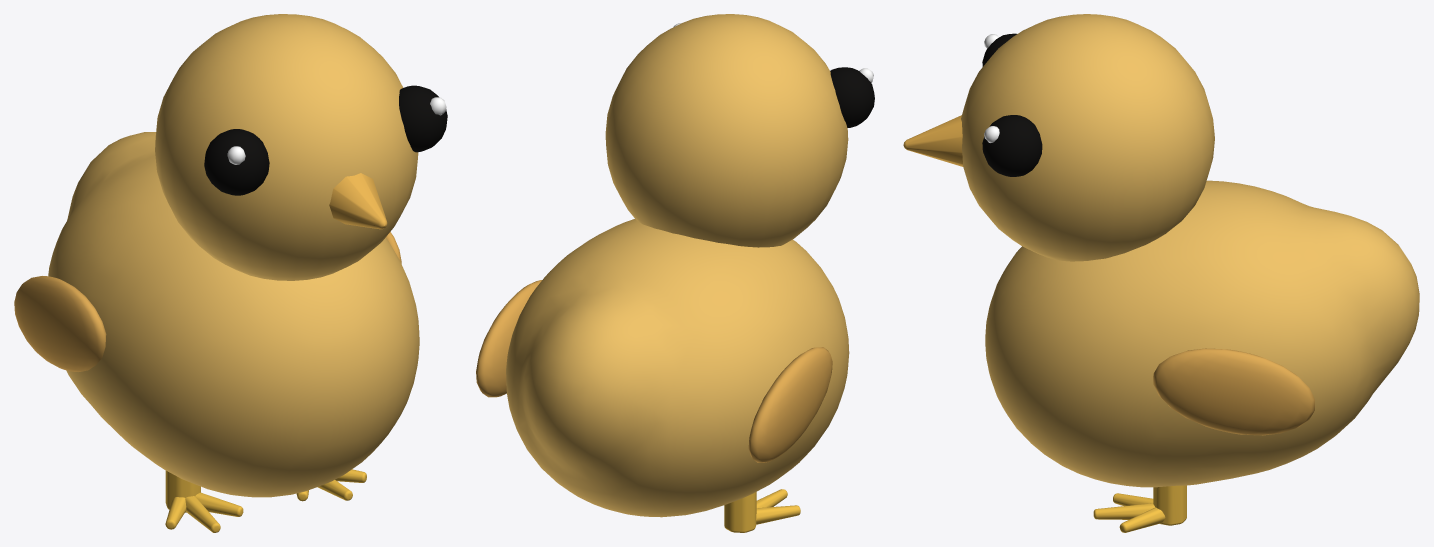
The model's file is chick_stand.fbx.
3 renders of one model, left to right at view 1: azimuth 30°, elevation 25°; view 2: azimuth 150°, elevation 25°; view 3: azimuth 270°, elevation 25°, orthographic. The views are drawn at different scales.
Parts seen in each view (by area): view 1: chick_stand; view 2: chick_stand; view 3: chick_stand.
Boxes of the visible parts, bbox=[...] form: chick_stand: bbox=[14, 14, 447, 532]; chick_stand: bbox=[476, 14, 874, 532]; chick_stand: bbox=[903, 14, 1419, 532].
Bounding box in the file's own units: 0.1105 × 0.1612 × 0.1612.
